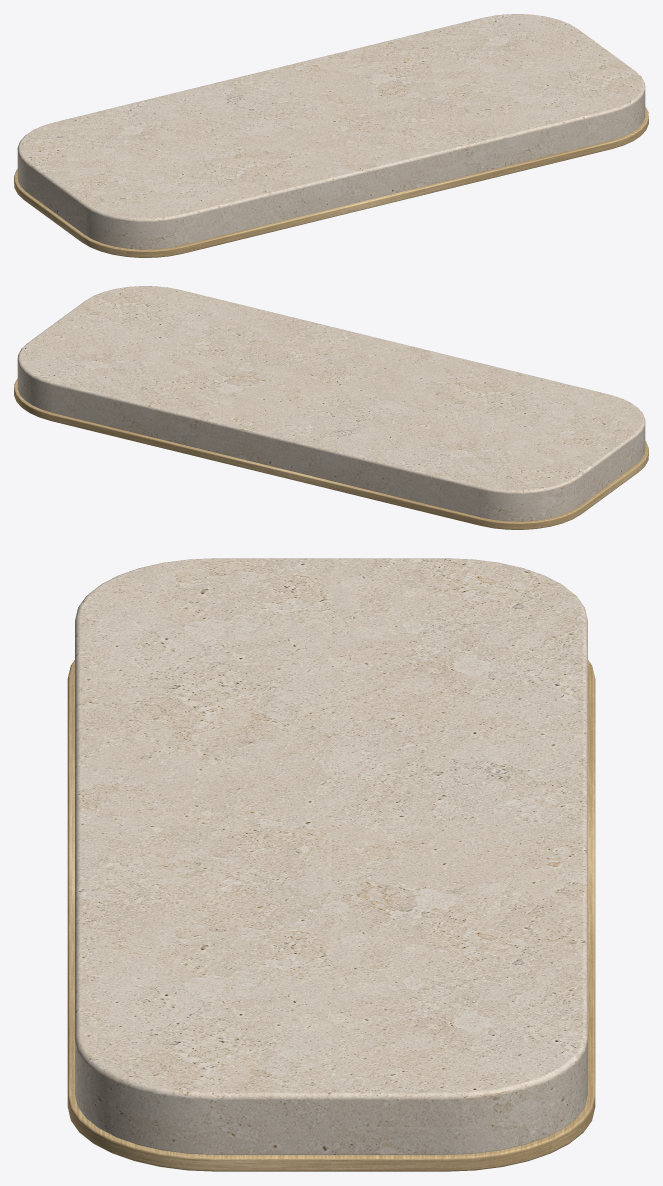
File: canopy.glb
3 views of the same model, one above another, from view 1: azimuth 30°, elevation 25°; view 2: azimuth 150°, elevation 25°; view 3: azimuth 270°, elevation 25° (orthographic). The views are drawn at different scales.
Parts seen in each view (by area): view 1: canopy; view 2: canopy; view 3: canopy.
Boxes of the visible parts, left/top/right/bottom form: canopy: left=14, top=14, right=648, bottom=257; canopy: left=14, top=286, right=648, bottom=529; canopy: left=67, top=558, right=595, bottom=1171.
Size of the model in its own units: 3.64 by 0.2325 by 1.49.
2 materials, 2 textured.
